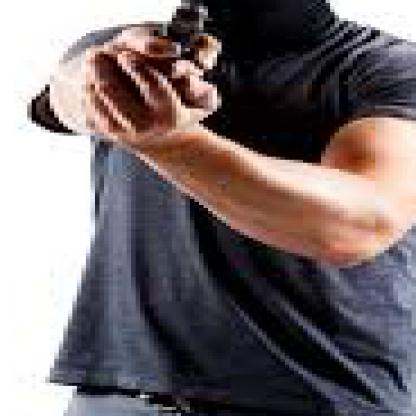gun: (135, 0, 231, 94)
